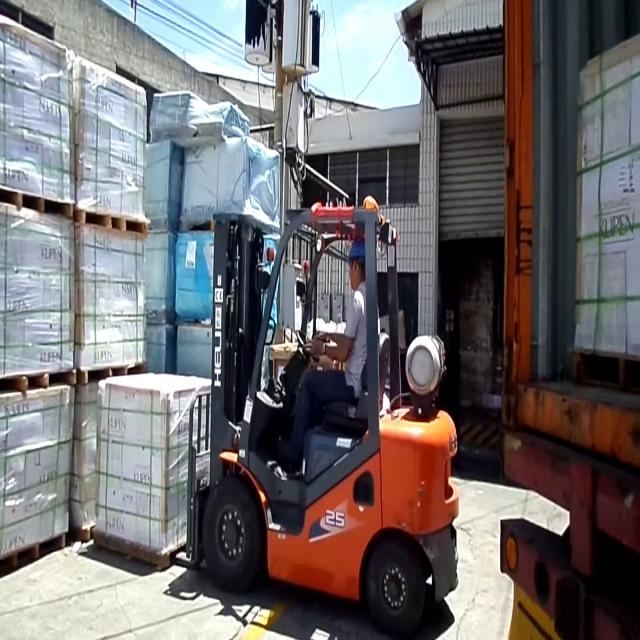Chariot elevateur: (175, 192, 468, 634)
